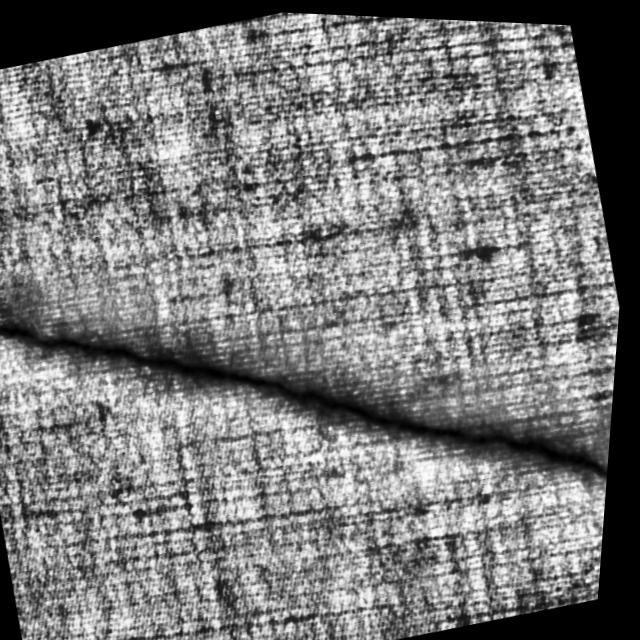Stitch: (0, 153, 631, 640)
